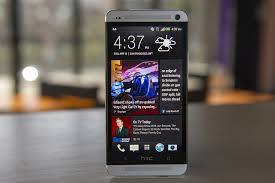htc: (100, 8, 192, 180)
